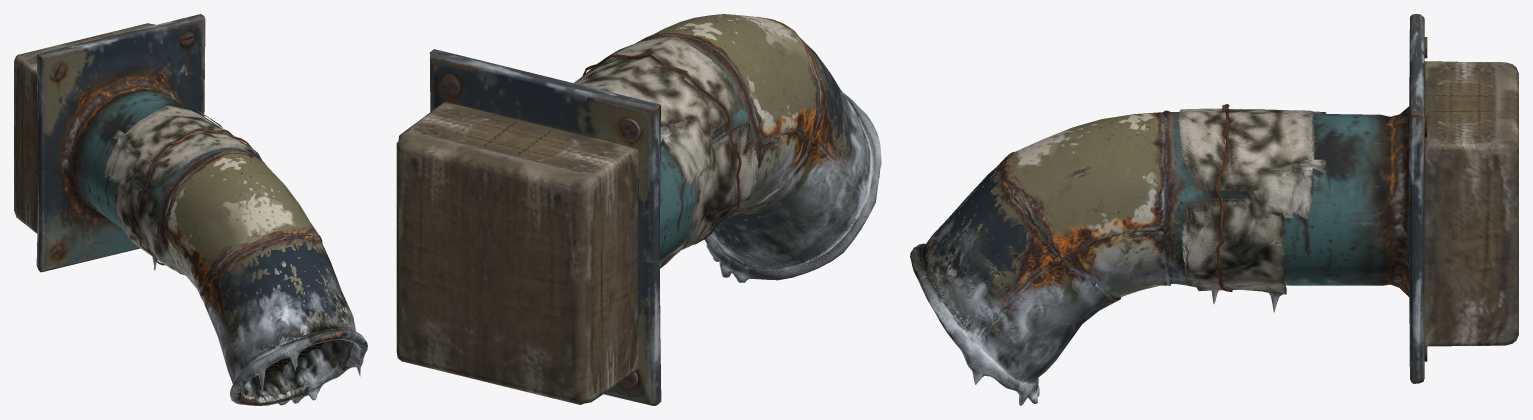
Rendered from silo81_steam_vent.glb.
3 views of the same model, side by side, from view 1: azimuth 30°, elevation 25°; view 2: azimuth 150°, elevation 25°; view 3: azimuth 270°, elevation 25° (orthographic). The views are drawn at different scales.
Bounding box in the file's own units: 0.3701 × 0.563 × 0.9517.
1 material, 1 textured.
